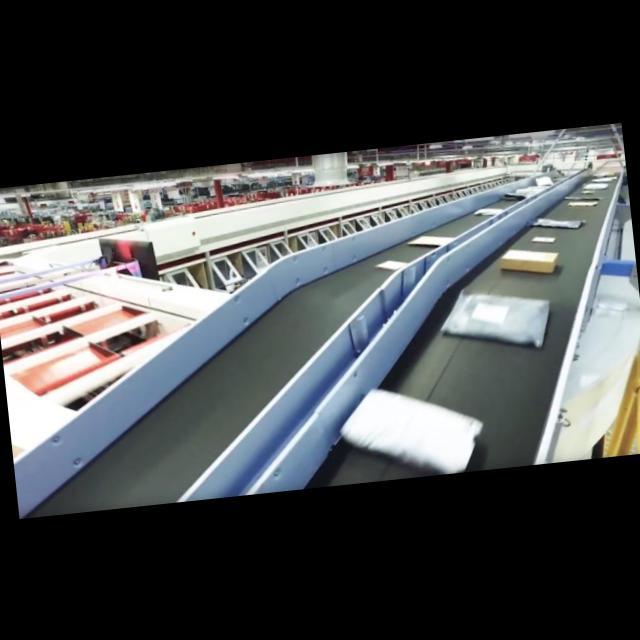box: (500, 249, 558, 271)
mailer: (341, 388, 482, 473), (442, 291, 549, 346), (530, 217, 584, 227), (408, 235, 453, 244), (375, 259, 407, 268), (564, 195, 604, 200), (475, 207, 503, 213), (504, 191, 525, 199), (568, 199, 596, 204), (532, 235, 555, 241), (583, 182, 607, 187), (582, 189, 593, 191)
